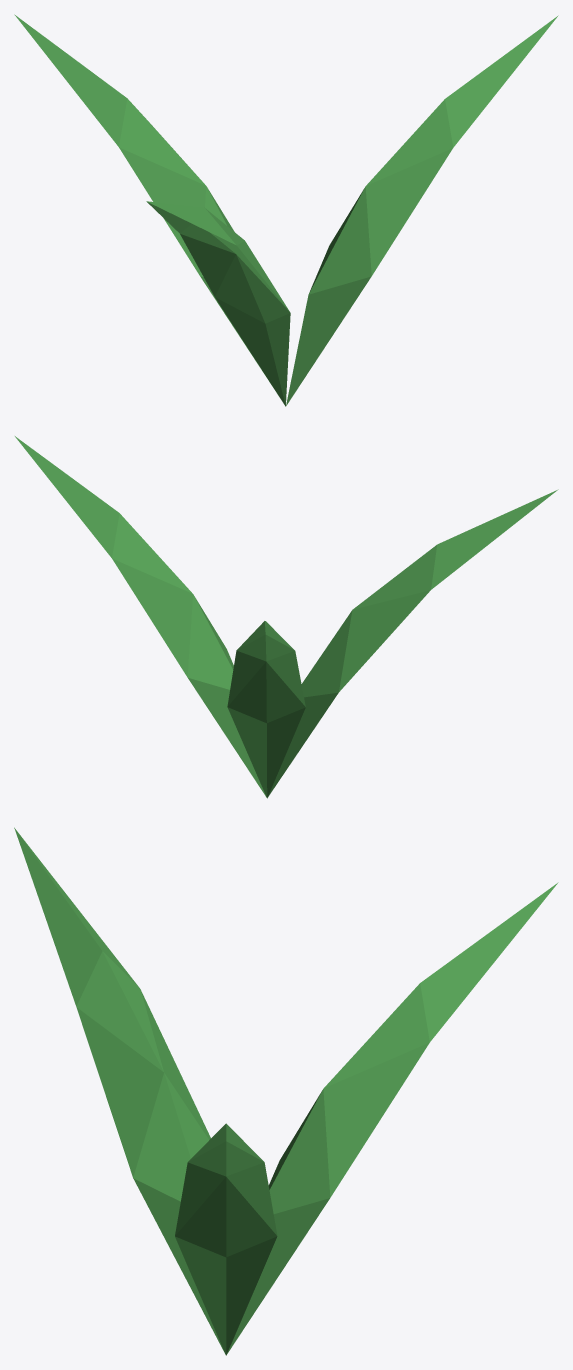
The model's file is Prop_Grass_Clump_1.glb.
The picture shows the model from 3 angles, top to bottom: view 1: azimuth 30°, elevation 25°; view 2: azimuth 150°, elevation 25°; view 3: azimuth 270°, elevation 25°; orthographic projection. The views are drawn at different scales.
Parts seen in each view (by area): view 1: Prop_Grass_Clump_1_Merged; view 2: Prop_Grass_Clump_1_Merged; view 3: Prop_Grass_Clump_1_Merged.
Part boxes in pixels (x1,y1,x2,y2): Prop_Grass_Clump_1_Merged: (14,14,558,406); Prop_Grass_Clump_1_Merged: (15,436,558,798); Prop_Grass_Clump_1_Merged: (14,827,558,1355).
Bounding box in the file's own units: 0.4864 × 0.302 × 0.3783.
